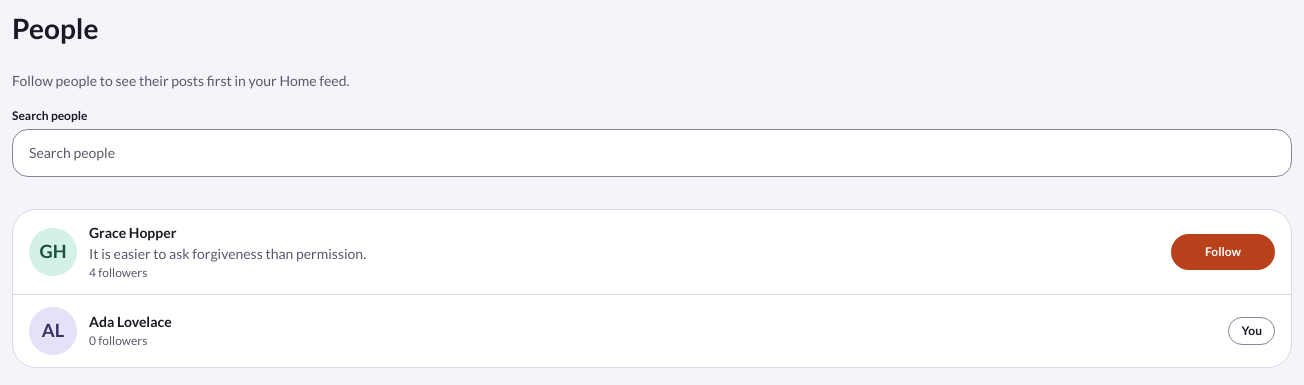
Users › shows the follow at once and keeps the server count
Click the button with aria-label "Follow Grace Hopper".
click(1223, 252)  # box [1171,234,1275,270]
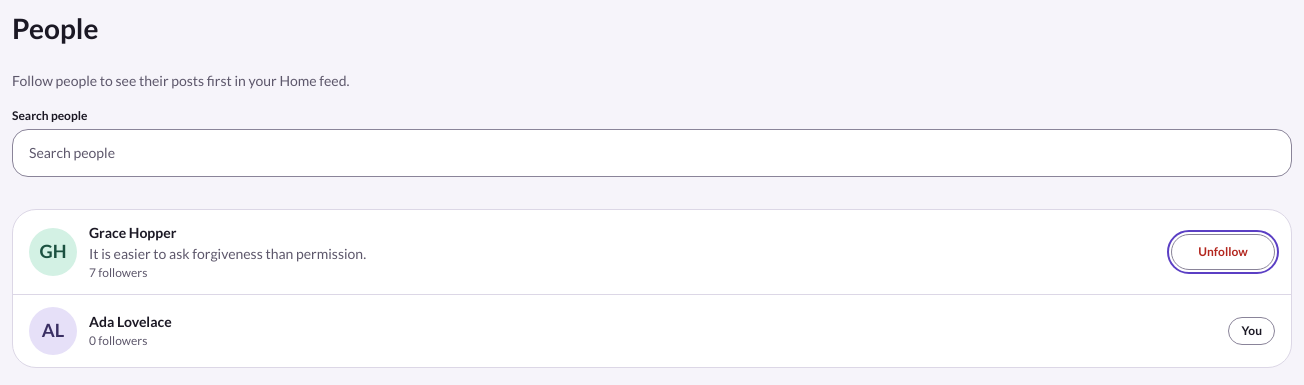
Expected: the text "7 followers" is shown, [89,265,147,280]
